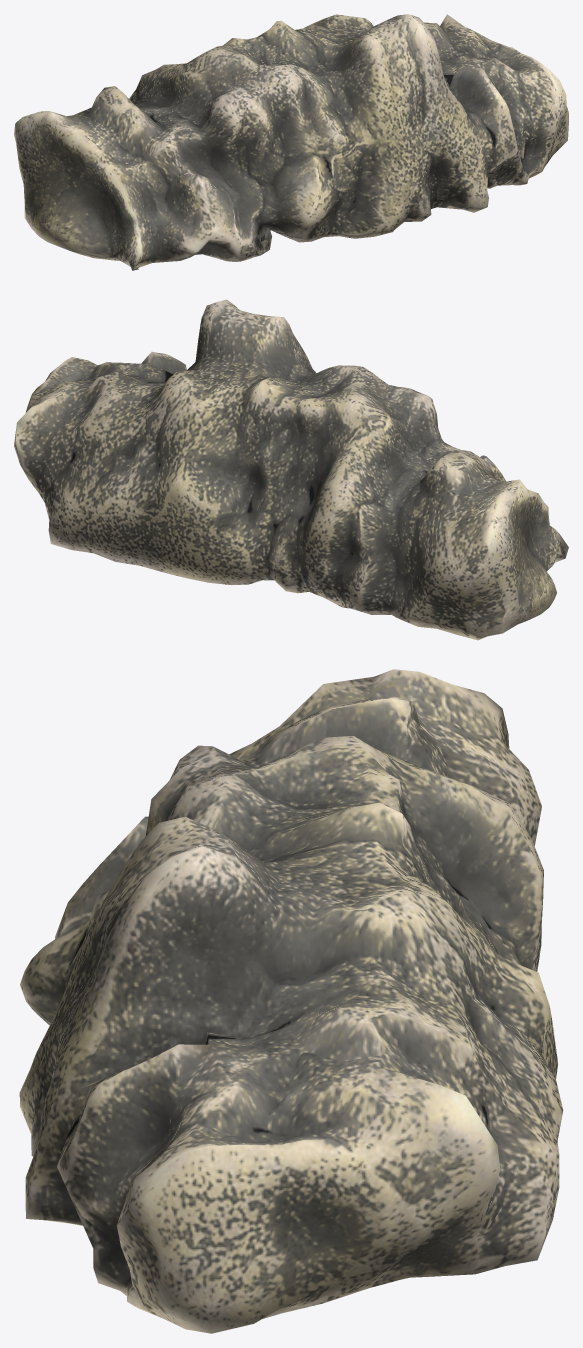
File: rock3.obj
3 renders of one model, top to bottom at view 1: azimuth 30°, elevation 25°; view 2: azimuth 150°, elevation 25°; view 3: azimuth 270°, elevation 25°, orthographic. The views are drawn at different scales.
Visible parts, largest first — view 1: rock3; view 2: rock3; view 3: rock3.
Boxes of the visible parts, bbox=[...] form: rock3: bbox=[14, 14, 568, 270]; rock3: bbox=[14, 299, 568, 640]; rock3: bbox=[19, 669, 563, 1333].
Bounding box in the file's own units: 7.7 × 2.81 × 3.73.
